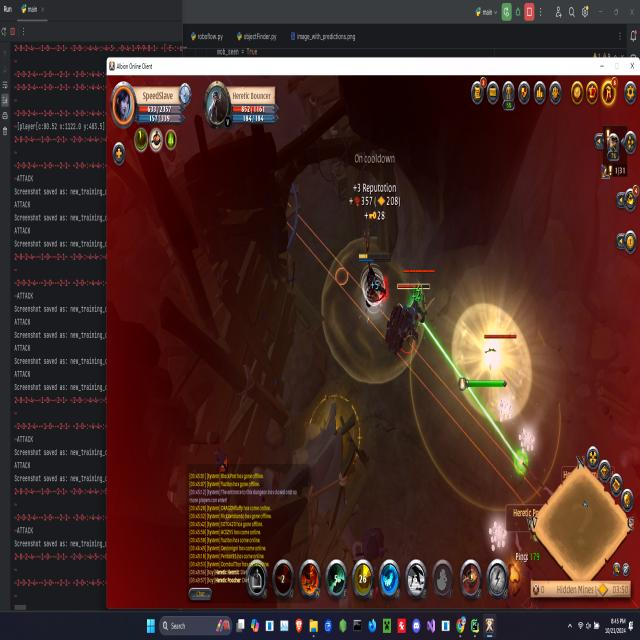ore: (389, 275, 428, 358), (402, 266, 438, 317)
red: (355, 250, 389, 315)
silver: (285, 202, 542, 507), (291, 212, 396, 308)
stone: (517, 424, 537, 458), (488, 514, 508, 547), (497, 396, 514, 427)
